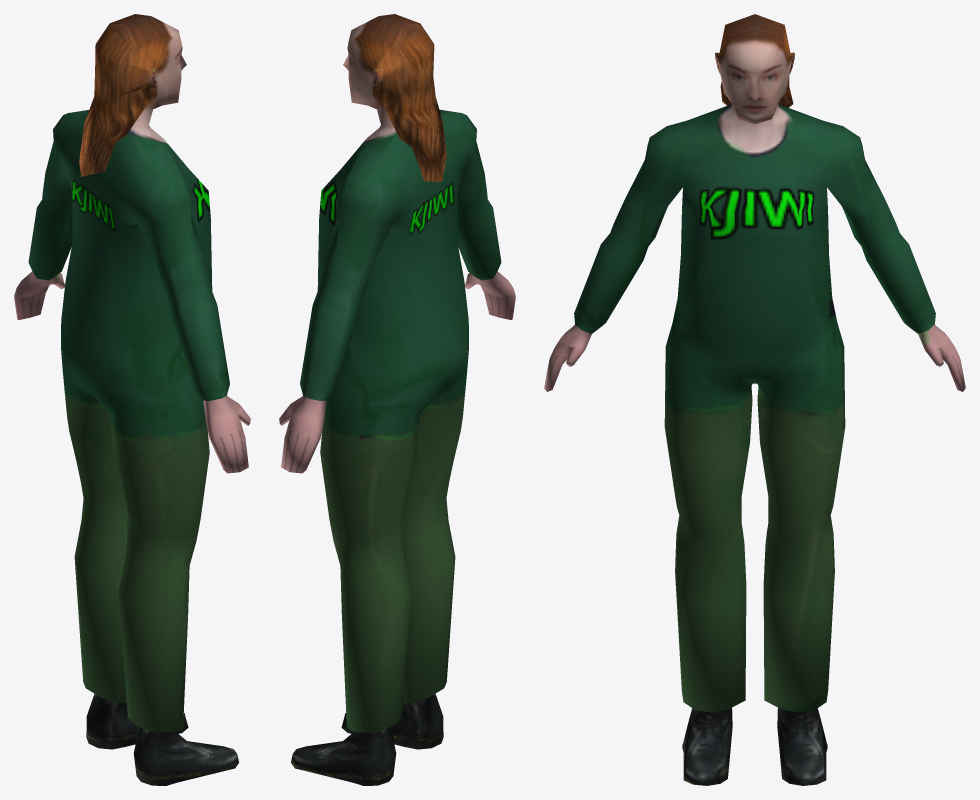
File: KjiwiKasseDame.glb
The picture shows the model from 3 angles, left to right: view 1: azimuth 30°, elevation 25°; view 2: azimuth 150°, elevation 25°; view 3: azimuth 270°, elevation 25°; orthographic projection.
Parts seen in each view (by area): view 1: Character_Female_13; view 2: Character_Female_13; view 3: Character_Female_13.
Part boxes in pixels (box(x1,y1,x2,y2)): Character_Female_13: box(14, 14, 250, 785); Character_Female_13: box(279, 14, 515, 785); Character_Female_13: box(544, 14, 965, 785).
Bounding box in the file's own units: 0.8216 × 4.44 × 2.32.
1 material, 1 textured.
